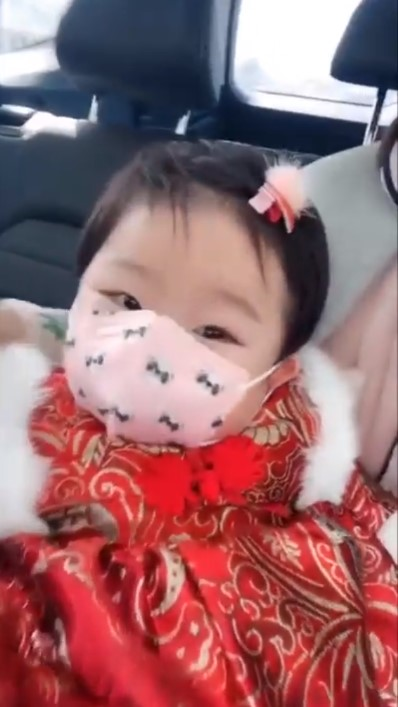face_with_mask: (61, 135, 334, 455)
